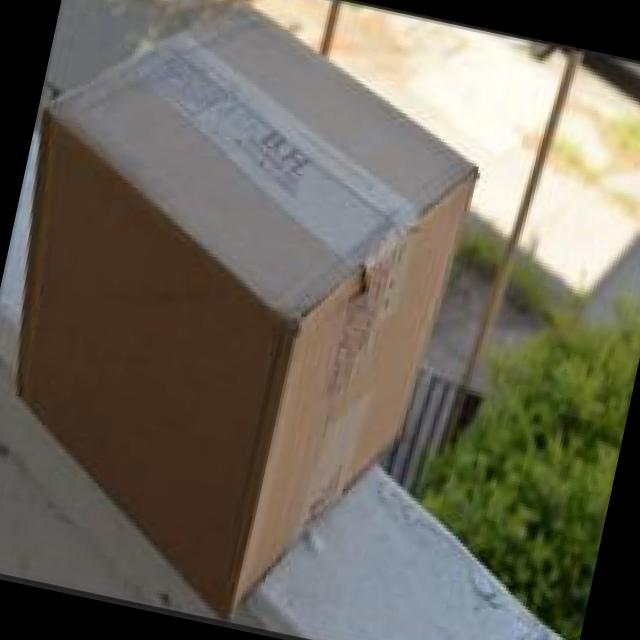box: (16, 14, 480, 620)
